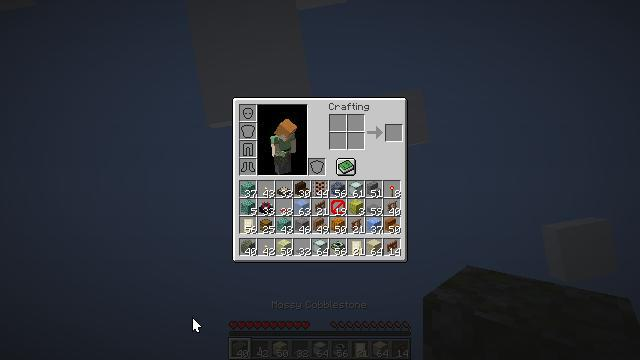cursor: (192, 317, 202, 333)
